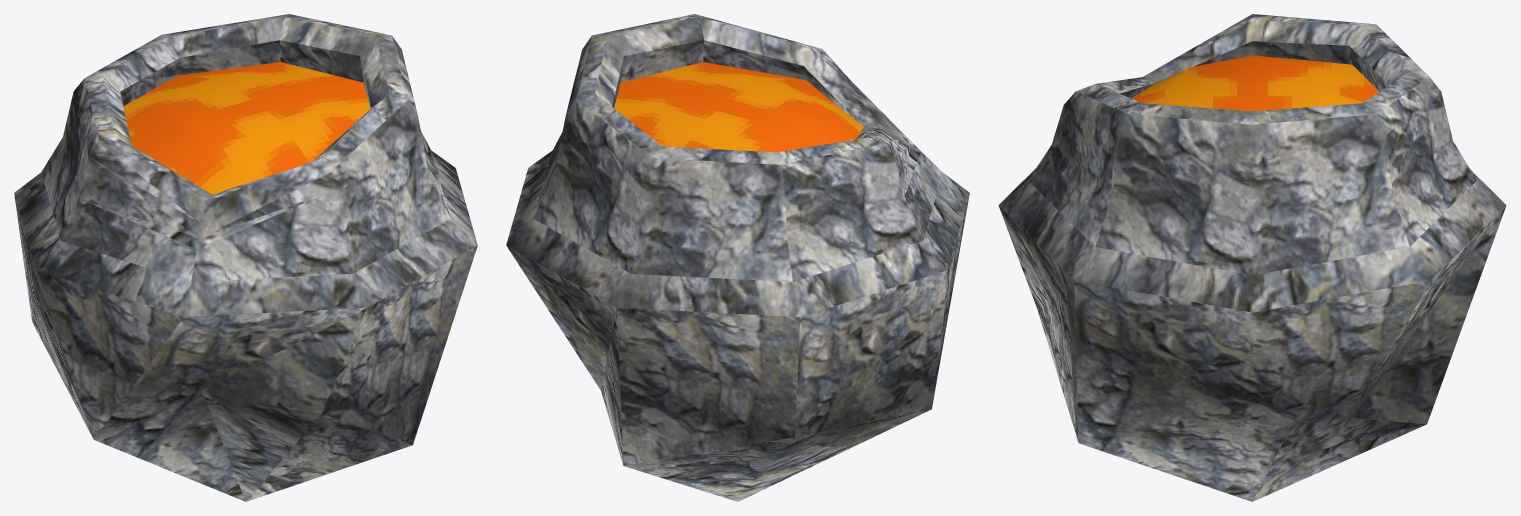
Rendered from Obstacle_Volcano.FBX.
3 views of the same model, side by side, from view 1: azimuth 30°, elevation 25°; view 2: azimuth 150°, elevation 25°; view 3: azimuth 270°, elevation 25° (orthographic). The views are drawn at different scales.
Parts seen in each view (by area): view 1: Platform_Middle; view 2: Platform_Middle; view 3: Platform_Middle.
Part boxes in pixels (box(x1,y1,x2,y2)): Platform_Middle: box(14, 14, 477, 501); Platform_Middle: box(506, 14, 969, 501); Platform_Middle: box(998, 14, 1506, 501).
Size of the model in its own units: 93.12 by 92.39 by 93.12.
Materials: 2 (2 with a texture image).
